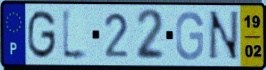2: (134, 7, 167, 64), (103, 11, 130, 59)
G: (26, 8, 58, 61), (174, 10, 205, 62)
L: (60, 5, 91, 64)
N: (206, 9, 241, 63)
